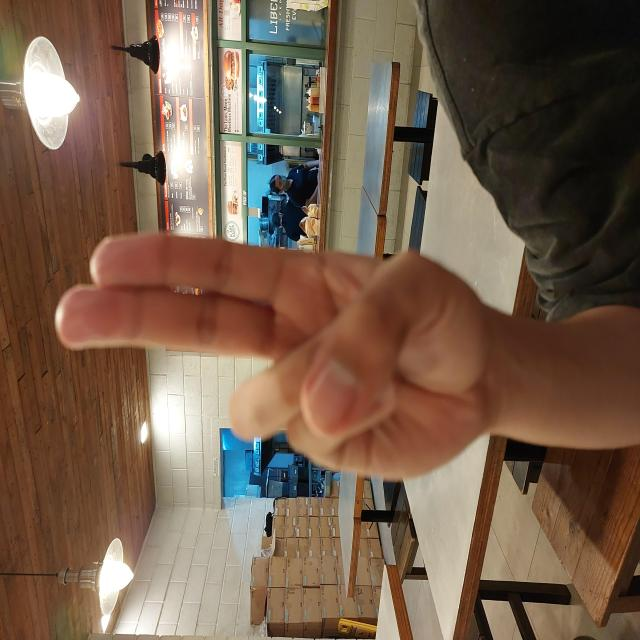U: (154, 52, 410, 490)
